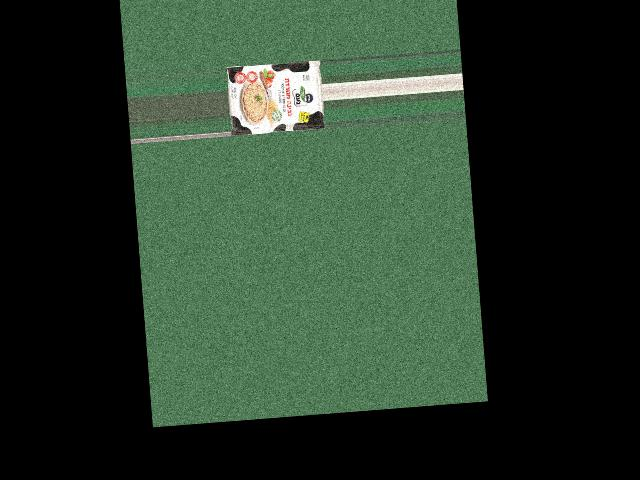cheese: (229, 48, 318, 137)
